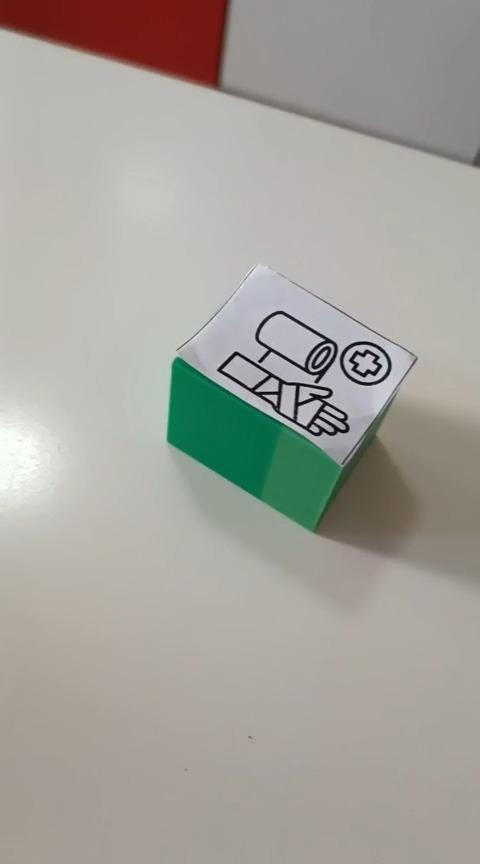Bandages: (165, 261, 418, 532)
